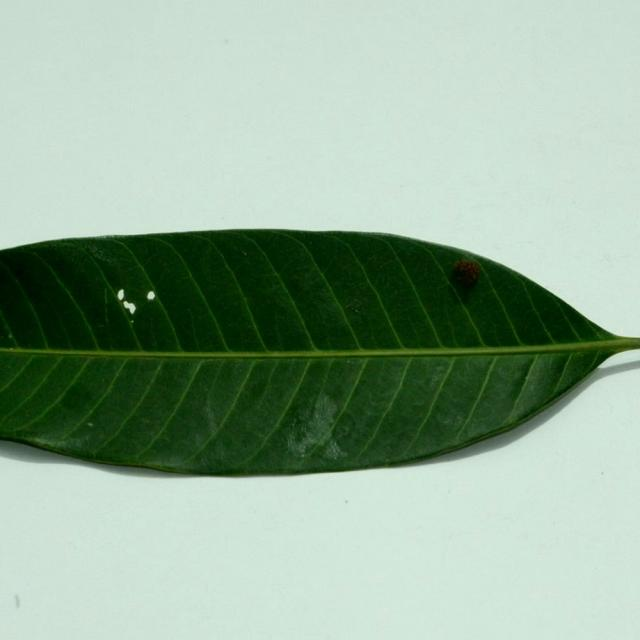Anthracnose: (106, 274, 179, 350)
Mango: (0, 230, 639, 479)
